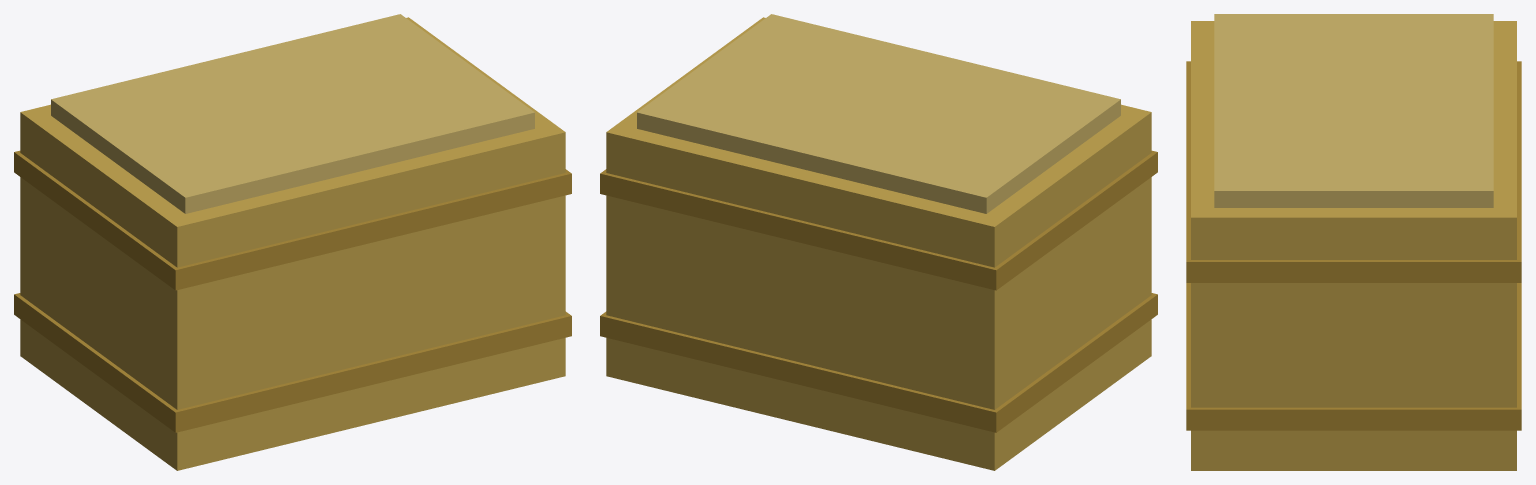
File: cp-hay-bale.glb
The picture shows the model from 3 angles, left to right: view 1: azimuth 30°, elevation 25°; view 2: azimuth 150°, elevation 25°; view 3: azimuth 270°, elevation 25°; orthographic projection. The views are drawn at different scales.
Visible parts, largest first — view 1: box-prop; view 2: box-prop; view 3: box-prop.
Part boxes in pixels (x1,y1,x2,y2): box-prop: [14, 14, 571, 470]; box-prop: [600, 14, 1157, 470]; box-prop: [1186, 14, 1521, 470].
Size of the model in its own units: 1.02 by 0.64 by 0.72.
